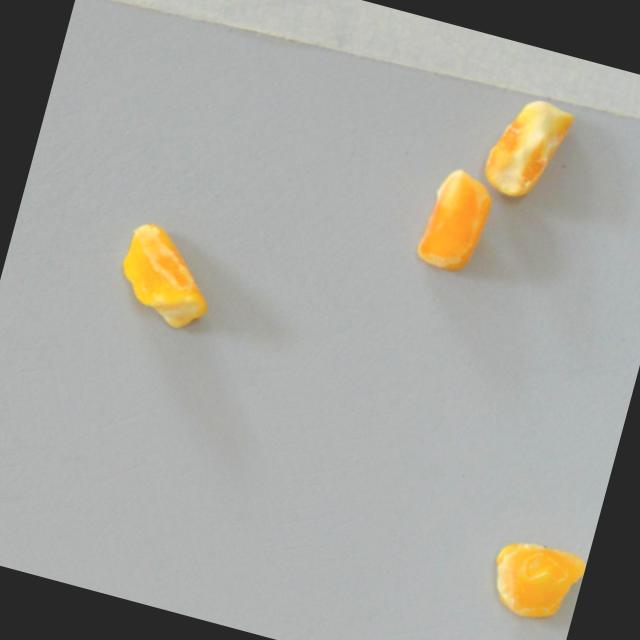pelicula: (474, 497, 597, 640), (472, 54, 584, 208), (101, 218, 230, 338), (402, 160, 500, 287)
